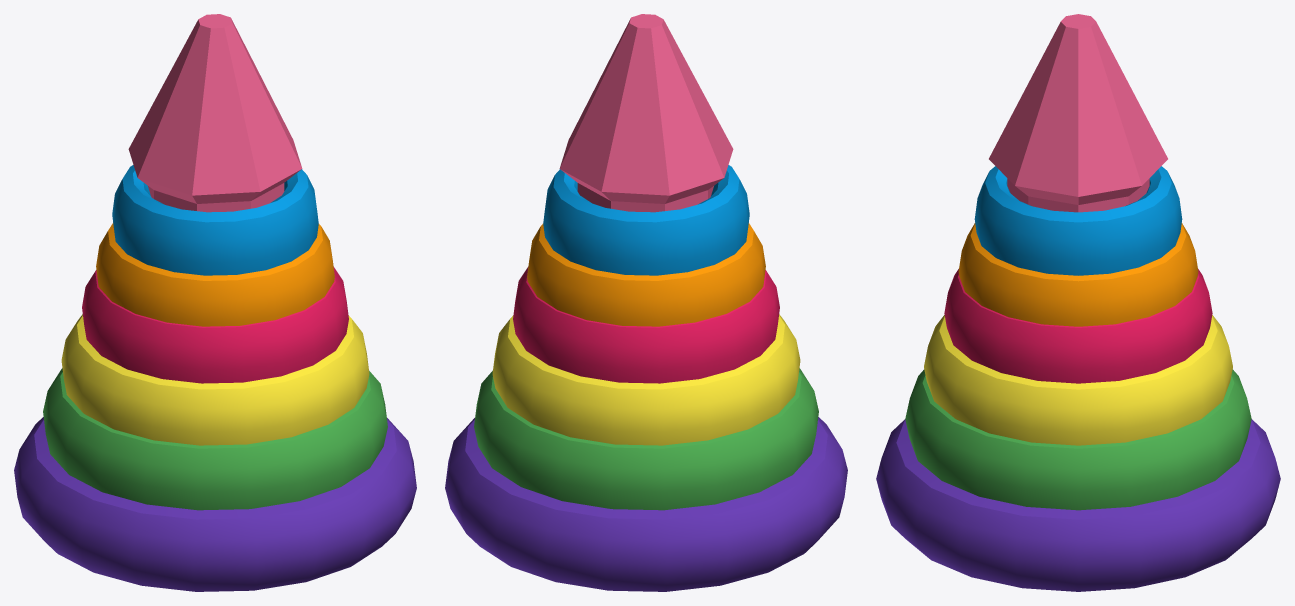
The model's file is Colored_Circle_Tower.fbx.
3 renders of one model, left to right at view 1: azimuth 30°, elevation 25°; view 2: azimuth 150°, elevation 25°; view 3: azimuth 270°, elevation 25°, orthographic.
Parts seen in each view (by area): view 1: Colored_Circle_Tower; view 2: Colored_Circle_Tower; view 3: Colored_Circle_Tower.
Part boxes in pixels (x1,y1,x2,y2): Colored_Circle_Tower: (14, 14, 416, 591); Colored_Circle_Tower: (445, 14, 847, 591); Colored_Circle_Tower: (876, 14, 1280, 591).
Bounding box in the file's own units: 18.05 × 24.56 × 18.05.
1 material, 1 textured.
